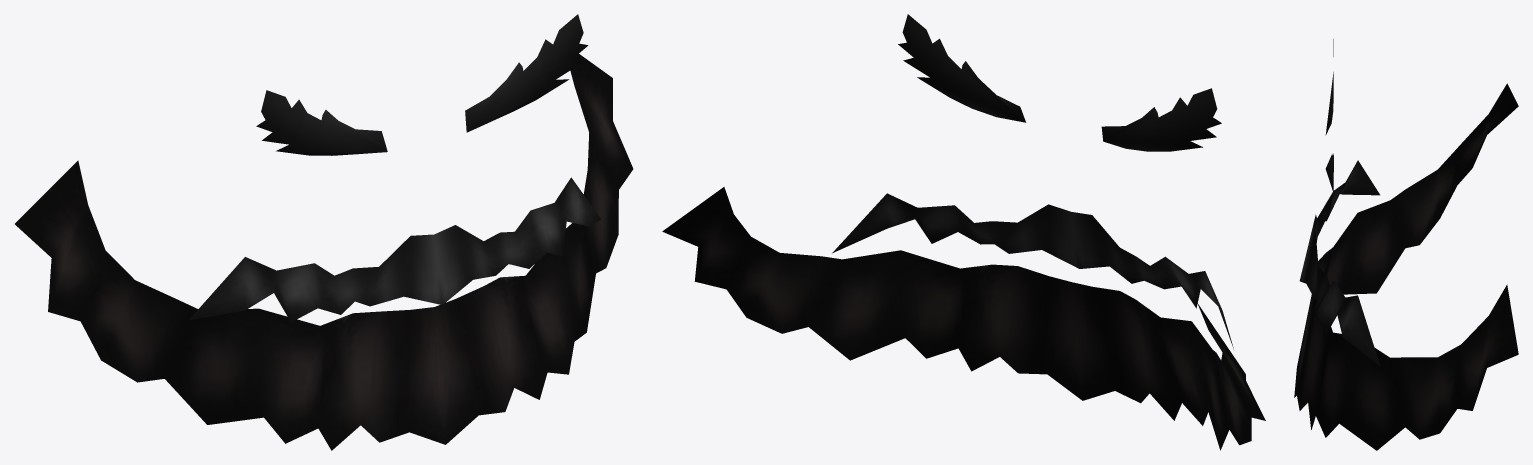
Rendered from m_b_dongtak.FBX.
The picture shows the model from 3 angles, left to right: view 1: azimuth 30°, elevation 25°; view 2: azimuth 150°, elevation 25°; view 3: azimuth 270°, elevation 25°; orthographic projection. The views are drawn at different scales.
Visible parts, largest first — view 1: Object01; view 2: Object01; view 3: Object01.
Boxes of the visible parts, x1=… form: Object01: x1=15, y1=14, x2=633, y2=450; Object01: x1=662, y1=14, x2=1265, y2=450; Object01: x1=1294, y1=39, x2=1518, y2=450.
Size of the model in its own units: 9.28 by 5.57 by 3.55.
